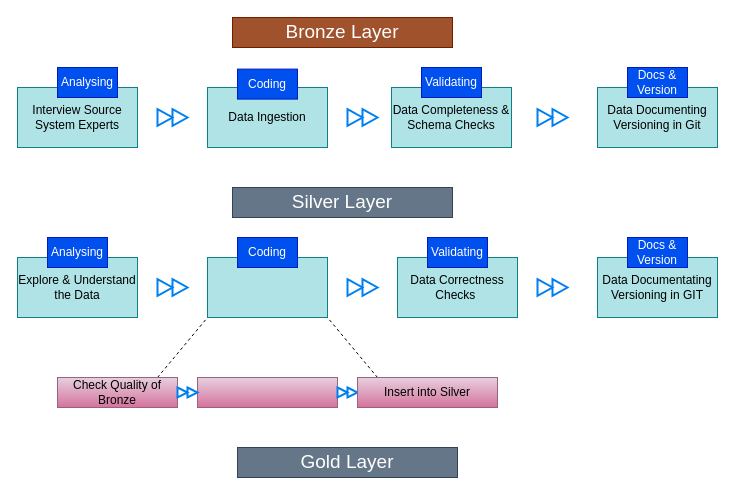
Image size: 735x495. Some labels were removed from this diagram. The centre of each missing label's shape, as x and y in pixels:
"Data Cleansing" goes at [267,287].
"Write Data Transformations" goes at [267,392].
